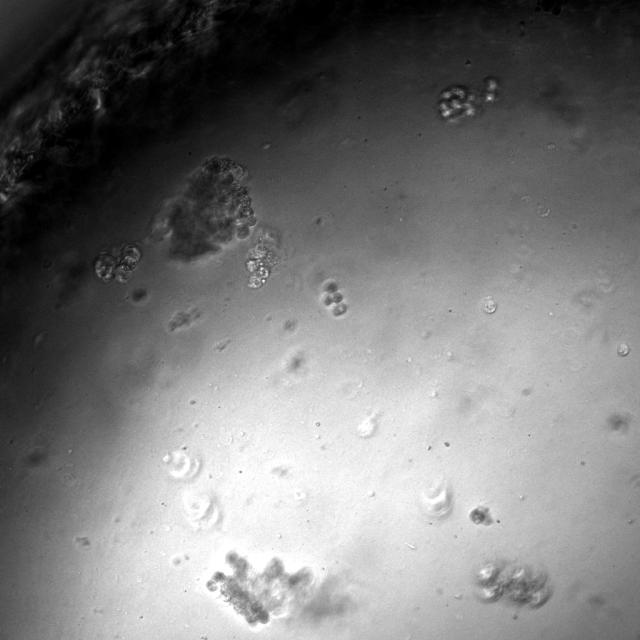organoid: (154, 157, 256, 261), (206, 551, 313, 624), (476, 560, 550, 607), (438, 76, 499, 122), (244, 226, 281, 287), (94, 243, 141, 283), (322, 279, 348, 316), (469, 505, 492, 525), (481, 297, 497, 314), (131, 289, 146, 302), (618, 343, 629, 356)
